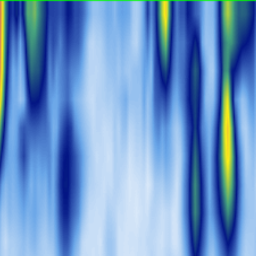defect: (215, 3, 239, 256), (183, 4, 206, 256), (20, 1, 48, 126), (58, 112, 77, 237), (154, 1, 175, 106), (1, 1, 12, 175), (59, 1, 79, 53)
